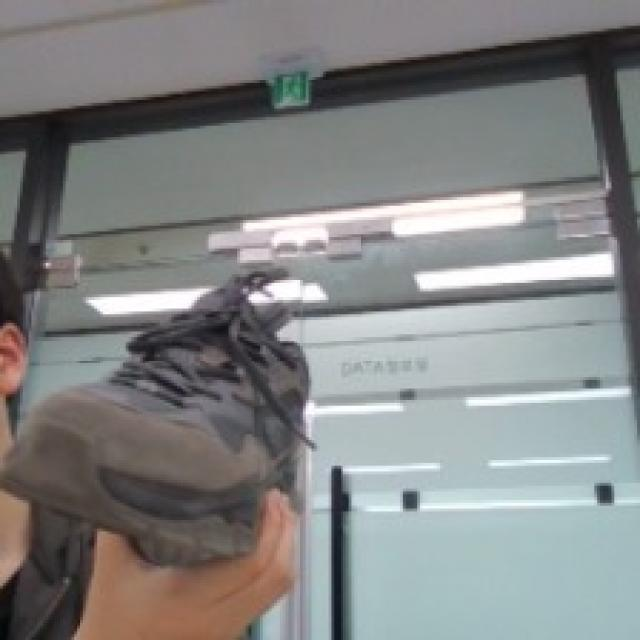shoes: (0, 240, 353, 616)
